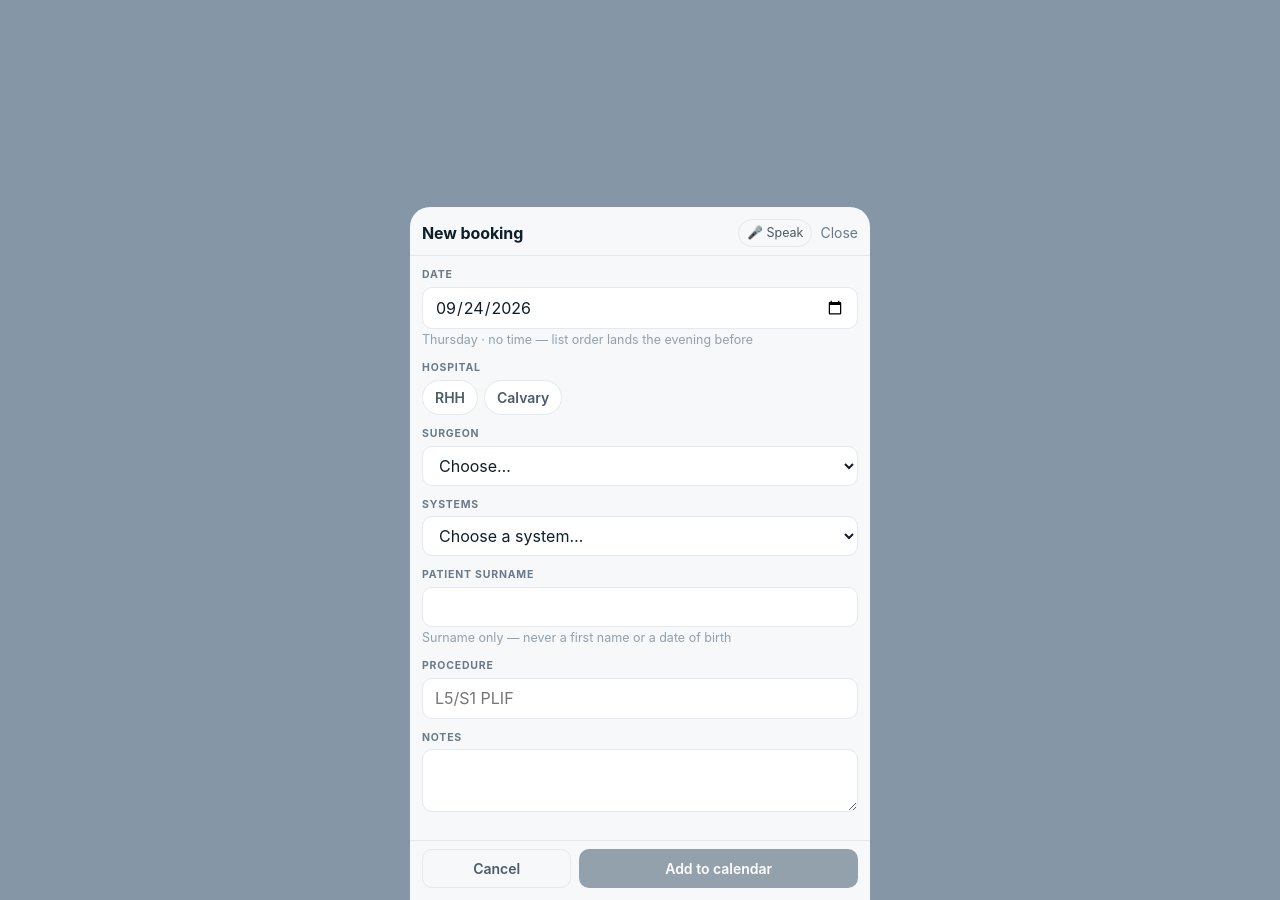
the question a booking raises › says a Mariner at Calvary needs a set ordered
Click the button "Calvary": (523,397) [484,380,562,415]
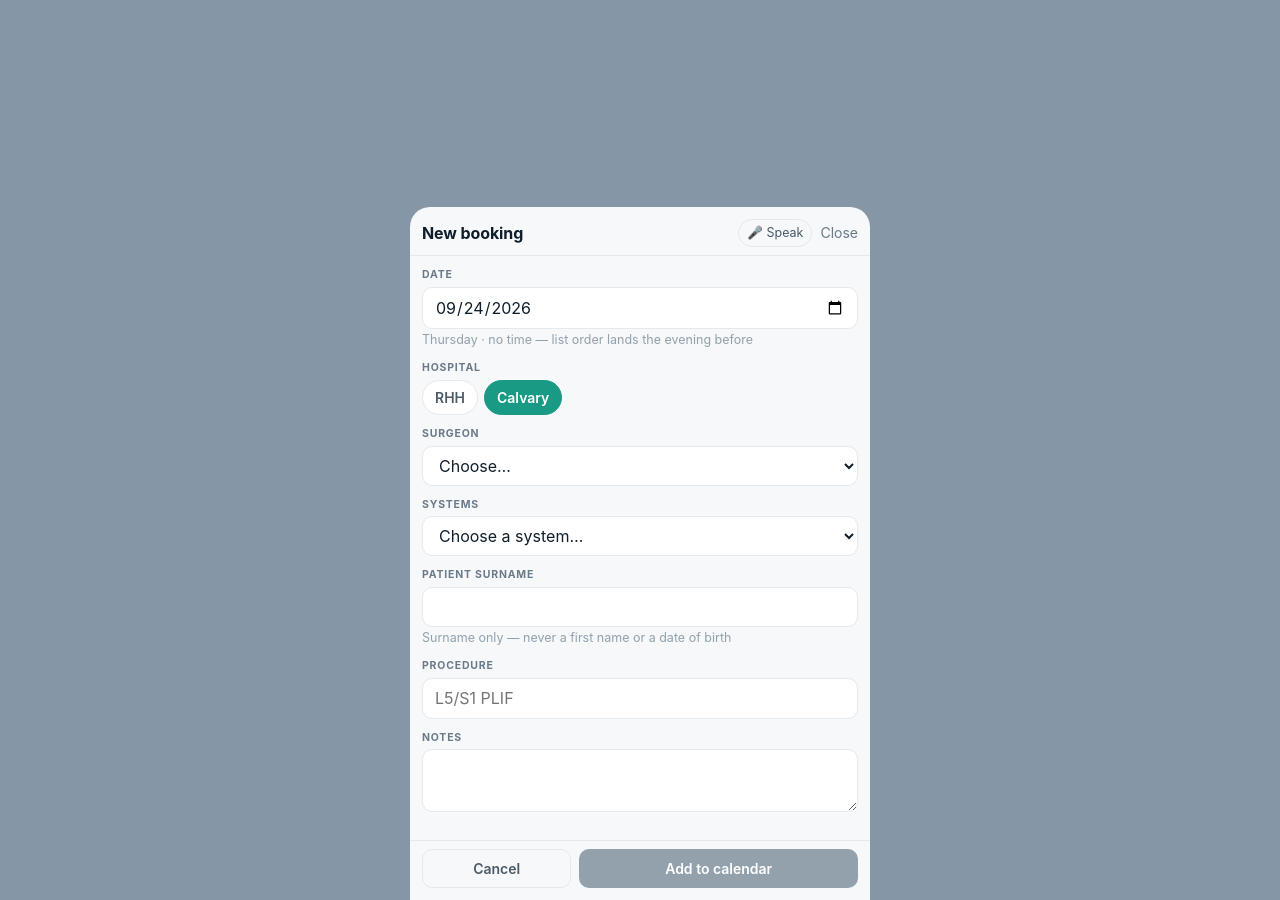
Select "Mariner" in the dropdown named "Add a system": (640,536) [422,516,858,556]
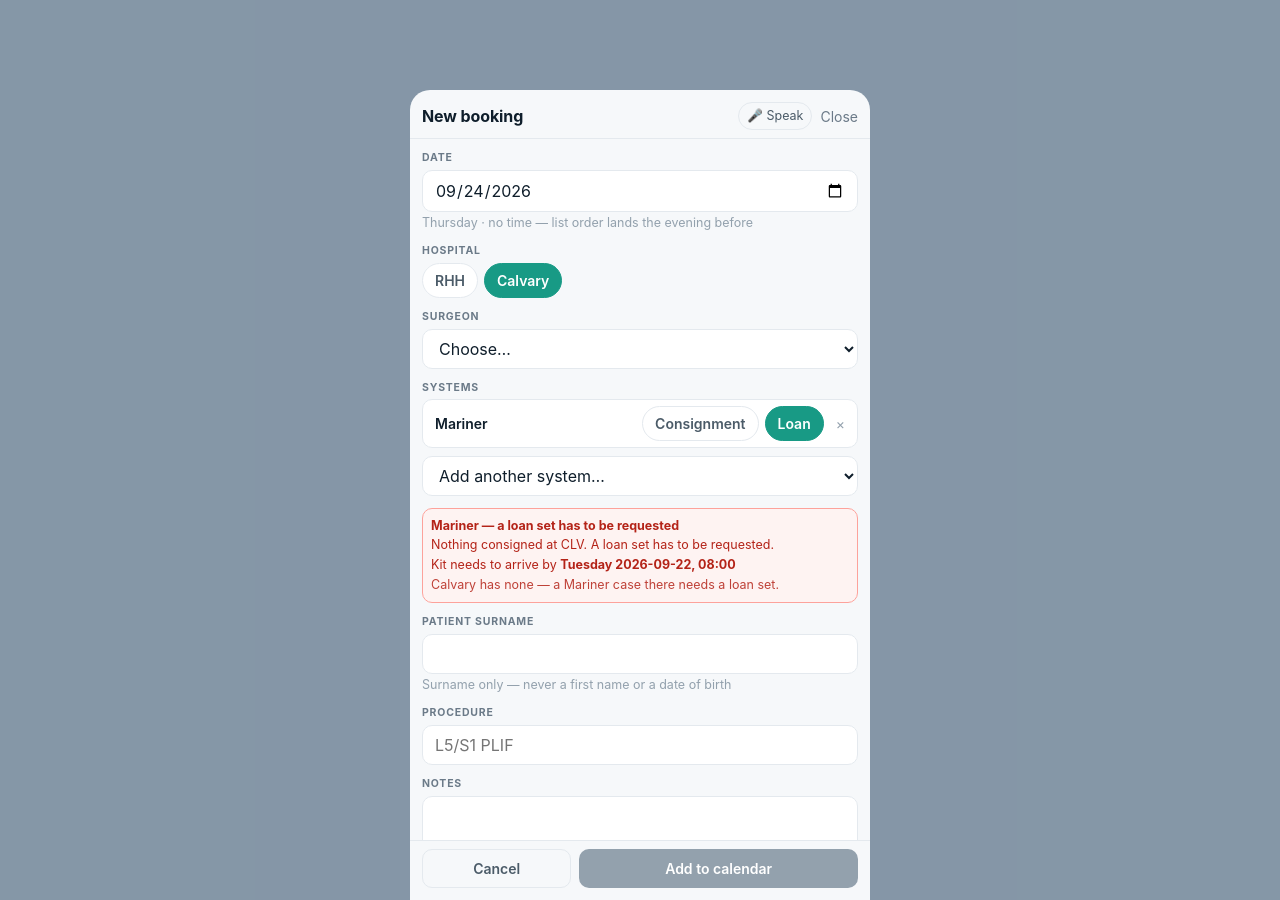
Check: the text "Mariner — a loan set has to be requested" is shown, box [431,518,679,533]
Check: the text "Nothing consigned at CLV. A loan set has to be requested." is shown, box [431,536,774,552]
